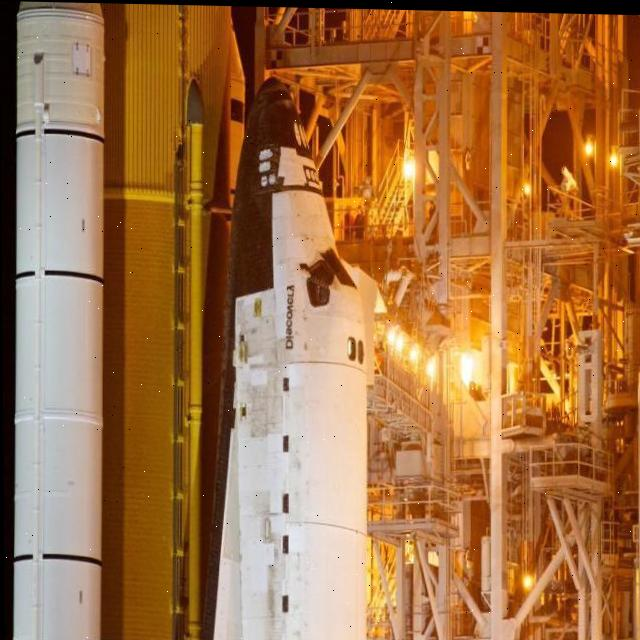missile: (194, 74, 392, 640)
